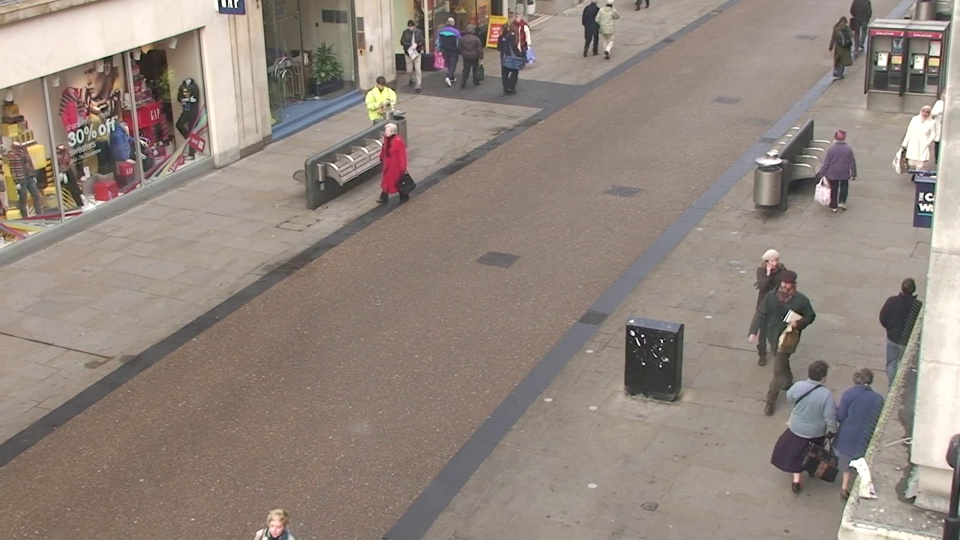pedestrian: (827, 354, 889, 517), (783, 351, 841, 510), (874, 270, 932, 409), (759, 265, 809, 401), (746, 244, 792, 374), (899, 101, 944, 197), (818, 124, 857, 223), (247, 494, 318, 540), (375, 118, 409, 214), (367, 74, 397, 157), (824, 13, 855, 84), (457, 22, 482, 92), (492, 23, 517, 93), (400, 18, 425, 86), (438, 14, 463, 81), (508, 10, 531, 76)
